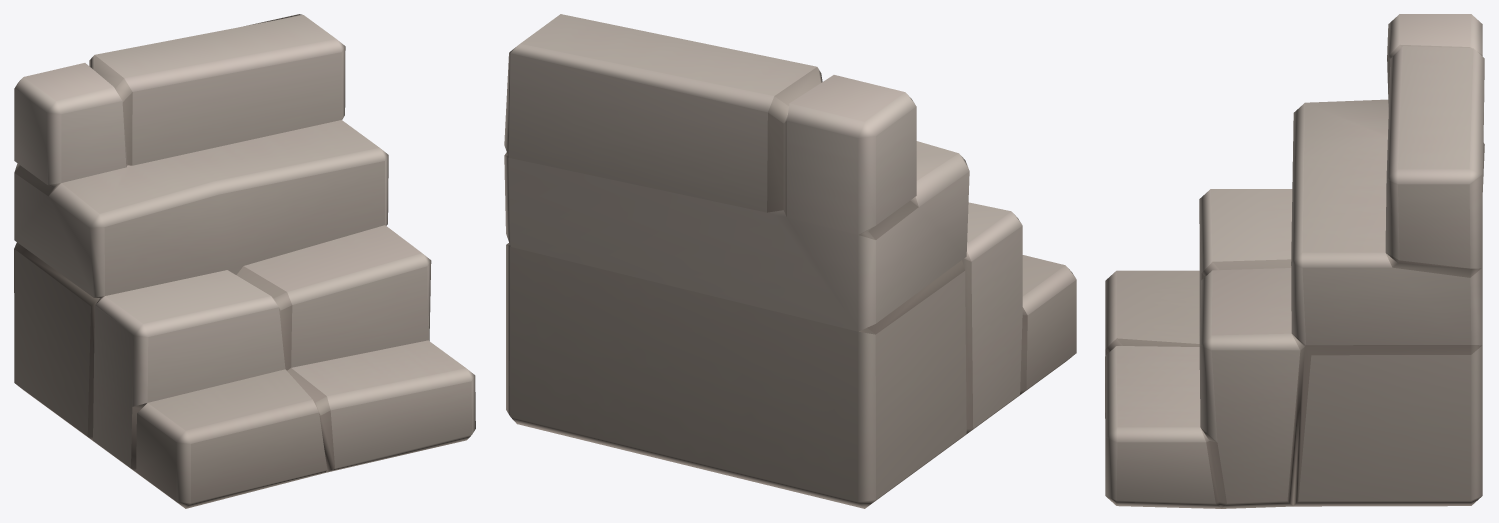
The model's file is elf_stairs_shade_1.fbx.
3 views of the same model, side by side, from view 1: azimuth 30°, elevation 25°; view 2: azimuth 150°, elevation 25°; view 3: azimuth 270°, elevation 25° (orthographic). The views are drawn at different scales.
Parts seen in each view (by area): view 1: elf_stairs_shade_1; view 2: elf_stairs_shade_1; view 3: elf_stairs_shade_1.
Boxes of the visible parts, x1,y1,x2,y2 form: elf_stairs_shade_1: [14, 14, 475, 508]; elf_stairs_shade_1: [504, 14, 1076, 508]; elf_stairs_shade_1: [1105, 14, 1484, 508].
Bounding box in the file's own units: 101 × 102 × 101.
